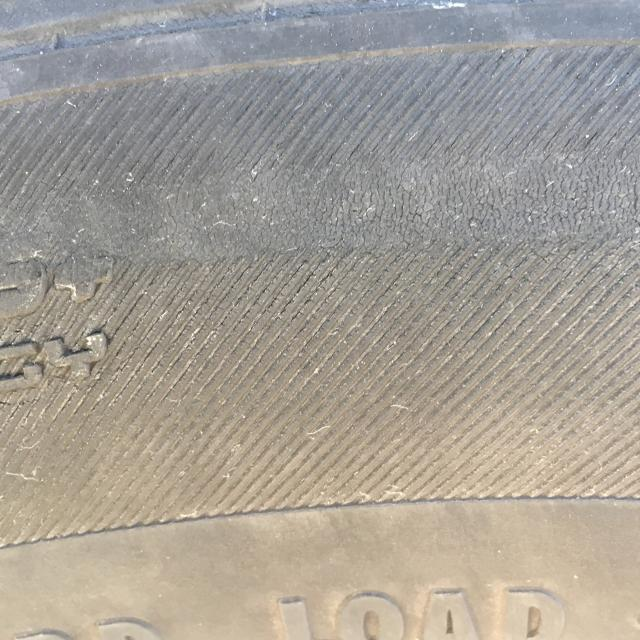Cracks: (0, 128, 639, 410)
Non-defective: (0, 421, 640, 640)
